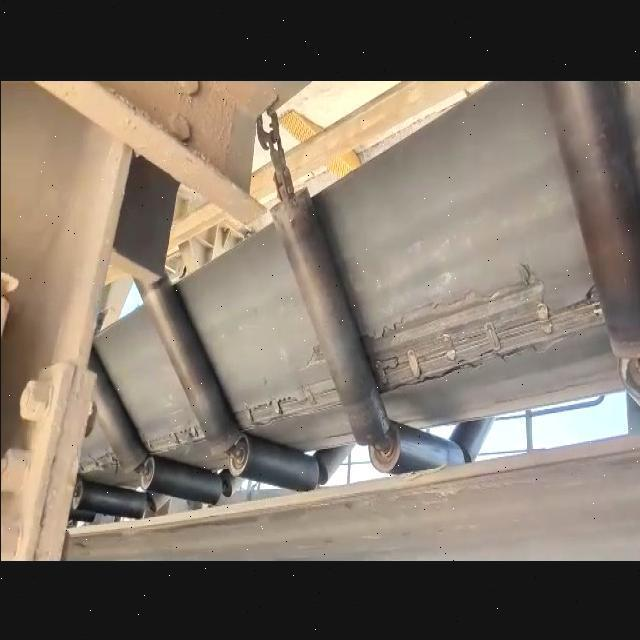Tear: (359, 278, 609, 401), (238, 376, 330, 436), (144, 418, 204, 458)
